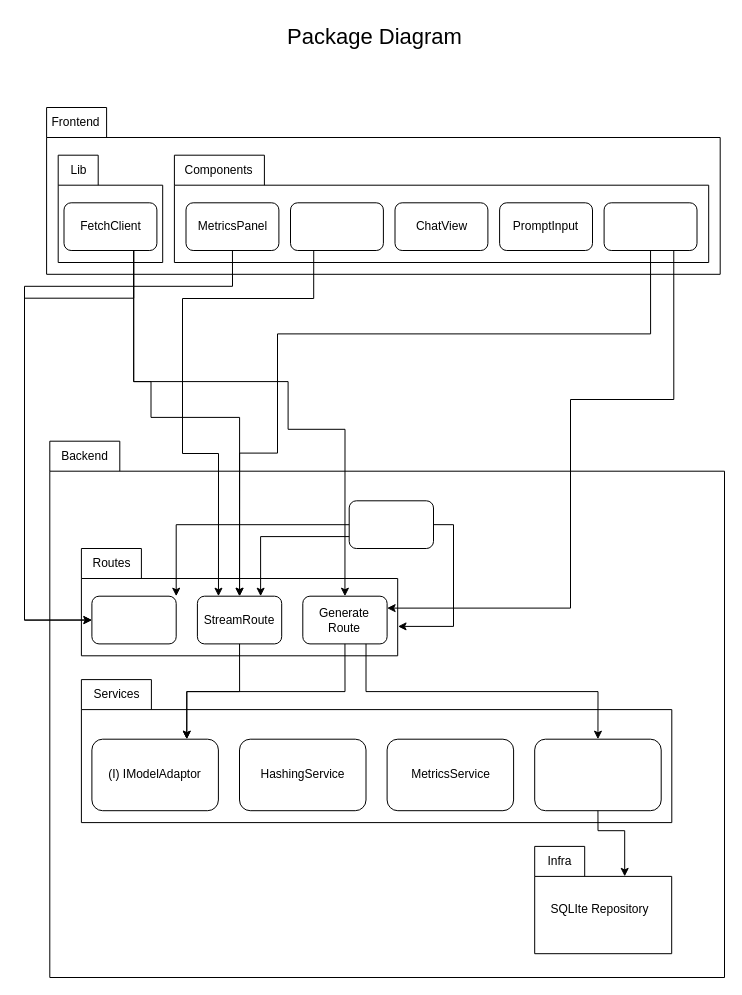
Some shapes in this 742 by 995 pixel diagram are drawn without their labels. Here are the shapes that lost their labels. From the top down, the centre of each, then its label:
At (336,226): "Mode Selector".
At (650,226): "App".
At (391,524): "Fastify App".
At (133,619): "MetricsRoute".
At (597,774): "CacheService".
